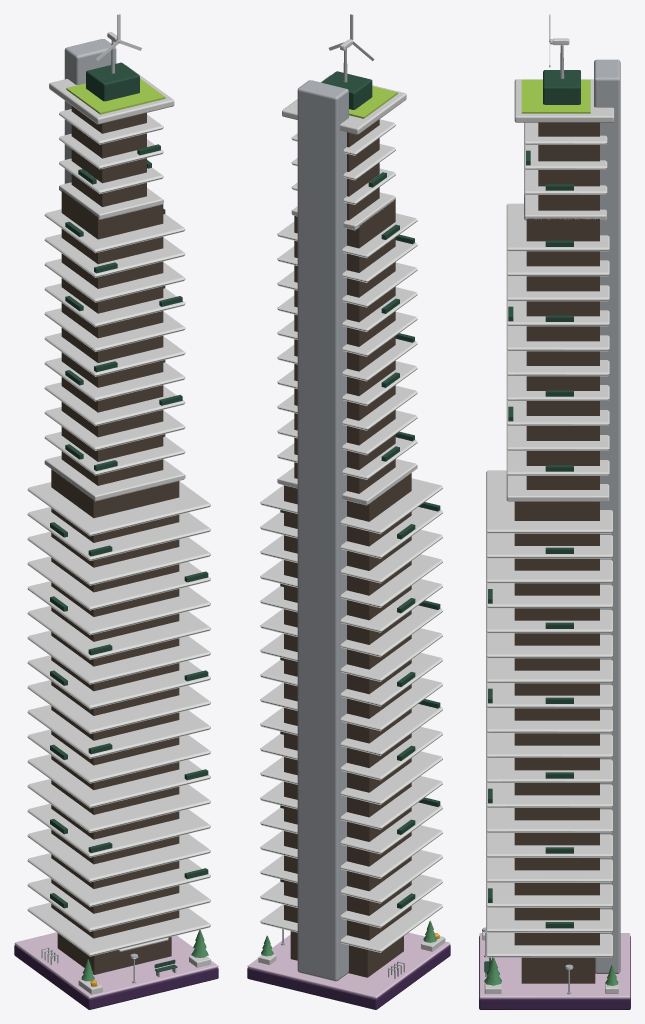
The model's file is modern_building_4_4Level_Demo.glb.
The picture shows the model from 3 angles, left to right: view 1: azimuth 30°, elevation 25°; view 2: azimuth 150°, elevation 25°; view 3: azimuth 270°, elevation 25°; orthographic projection.
Parts seen in each view (by area): view 1: MB4_4_White4, MB4_4_Glass4, MB4_4_Forest4, MB4_4_Paving, MB4_4_Base, MB4_4_Silver4, MB4_4_Grass, MB4_4_Pine; view 2: MB4_4_White4, MB4_4_Silver4, MB4_4_Glass4, MB4_4_Paving, MB4_4_Forest4, MB4_4_Base, MB4_4_Grass; view 3: MB4_4_White4, MB4_4_Glass4, MB4_4_Silver4, MB4_4_Forest4, MB4_4_Paving, MB4_4_Base, MB4_4_Grass, MB4_4_Pine.
Part boxes in pixels (x1,y1,x2,y2): MB4_4_White4: [27, 14, 210, 994]; MB4_4_Glass4: [51, 106, 179, 974]; MB4_4_Forest4: [50, 62, 208, 972]; MB4_4_Paving: [14, 932, 218, 998]; MB4_4_Base: [14, 945, 218, 1009]; MB4_4_Silver4: [41, 39, 176, 983]; MB4_4_Grass: [66, 78, 165, 114]; MB4_4_Pine: [81, 930, 208, 981]; MB4_4_White4: [258, 14, 445, 964]; MB4_4_Silver4: [281, 49, 404, 981]; MB4_4_Glass4: [284, 119, 411, 977]; MB4_4_Paving: [247, 932, 450, 998]; MB4_4_Forest4: [280, 71, 440, 908]; MB4_4_Base: [247, 945, 450, 1009]; MB4_4_Grass: [349, 86, 397, 118]; MB4_4_White4: [482, 14, 618, 993]; MB4_4_Glass4: [514, 122, 599, 983]; MB4_4_Silver4: [482, 45, 620, 994]; MB4_4_Forest4: [484, 70, 580, 972]; MB4_4_Paving: [479, 933, 630, 998]; MB4_4_Base: [479, 936, 630, 1009]; MB4_4_Grass: [521, 79, 590, 113]; MB4_4_Pine: [484, 957, 618, 985].
Bounding box in the file's own units: 3.2 × 22.4 × 3.2.
